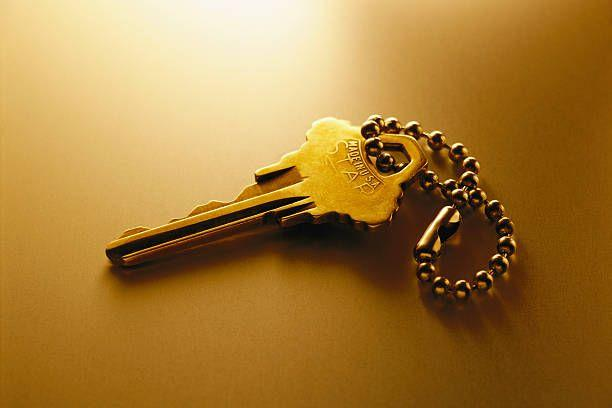metal: (97, 95, 522, 319)
